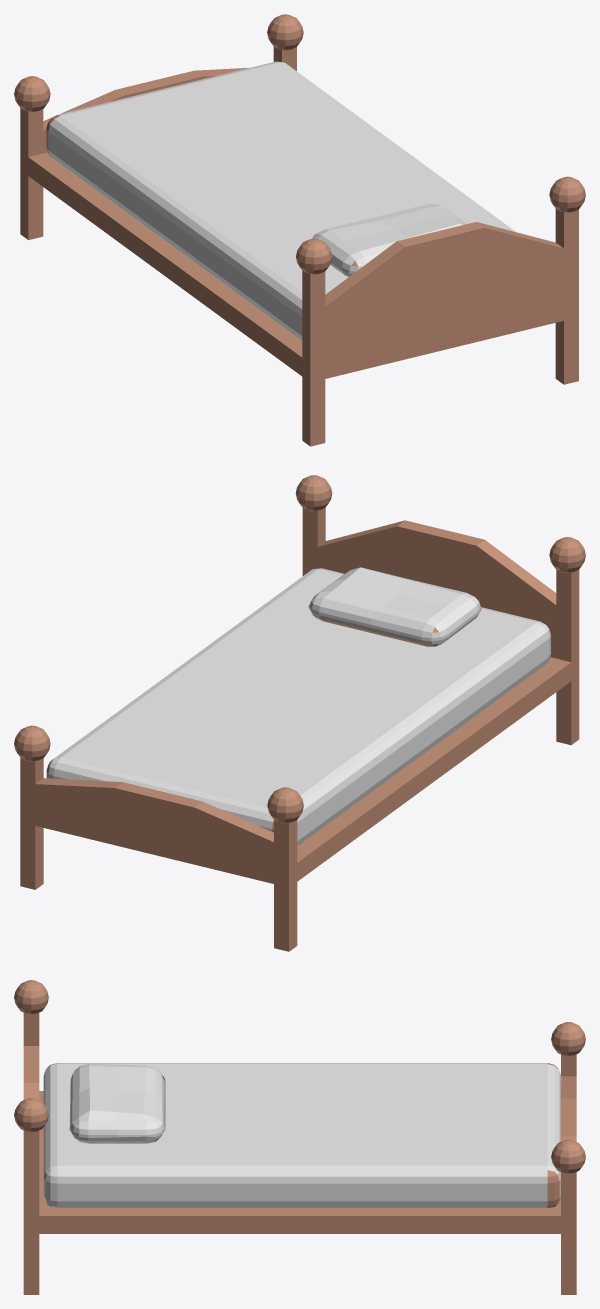
The model's file is Lit1p.fbx.
3 renders of one model, top to bottom at view 1: azimuth 30°, elevation 25°; view 2: azimuth 150°, elevation 25°; view 3: azimuth 270°, elevation 25°, orthographic. The views are drawn at different scales.
Parts seen in each view (by area): view 1: Cube.005; view 2: Cube.005; view 3: Cube.005.
Boxes of the visible parts, x1,y1,x2,y2 form: Cube.005: (14,14,585,446); Cube.005: (14,475,585,951); Cube.005: (14,980,585,1294).
Size of the model in its own units: 416 by 281 by 759.
